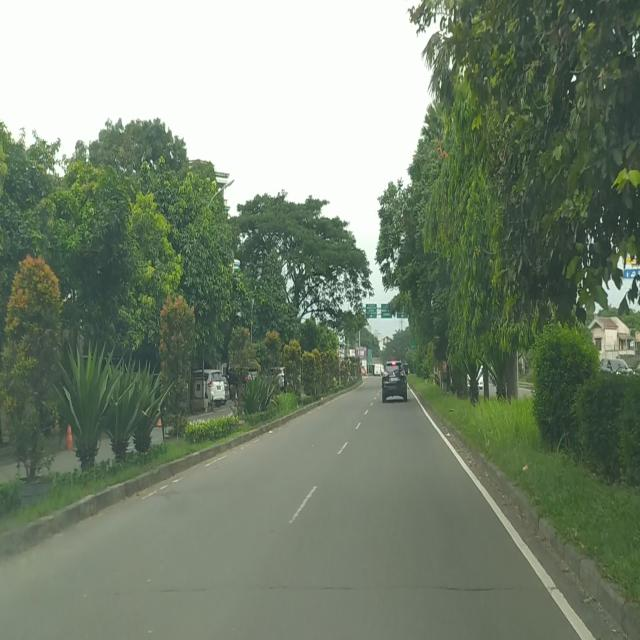Sewer Cover: (258, 582, 552, 593)
